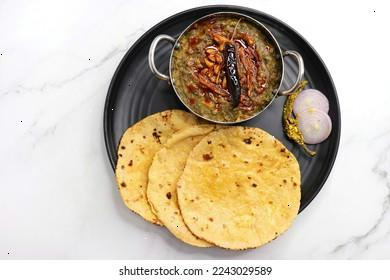saag: (174, 16, 282, 121)
